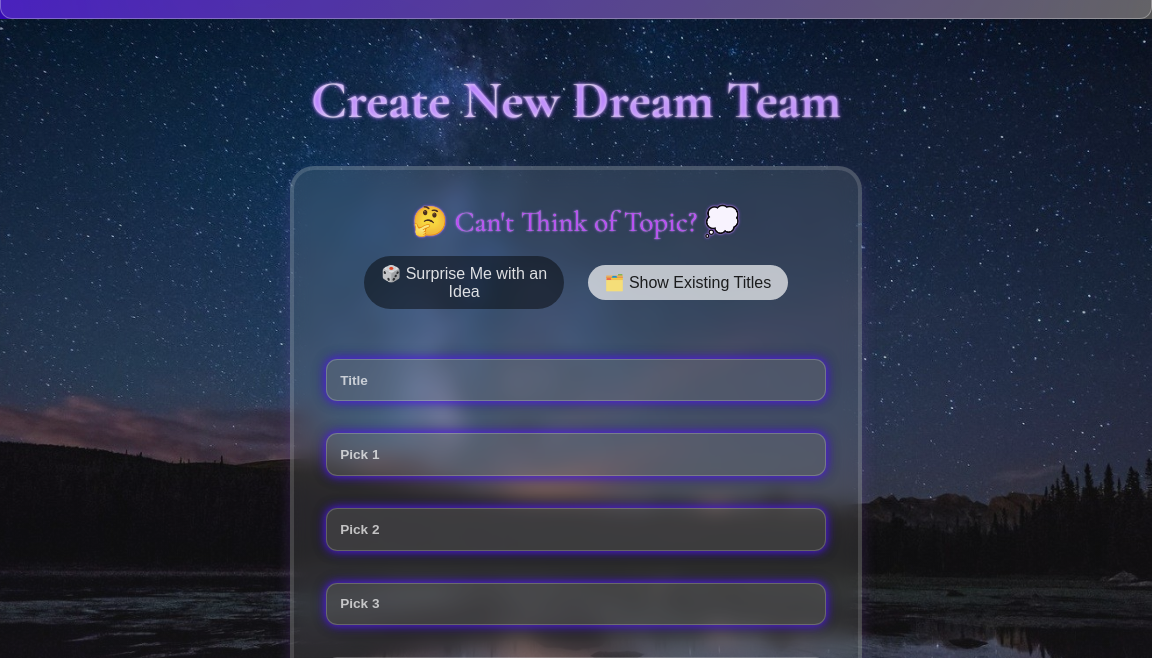
Test case: CreateDream › shows error on blank title
Type "pick 1" into the field with placeholder "Pick 1" at (576, 455), box [326,433,826,476]
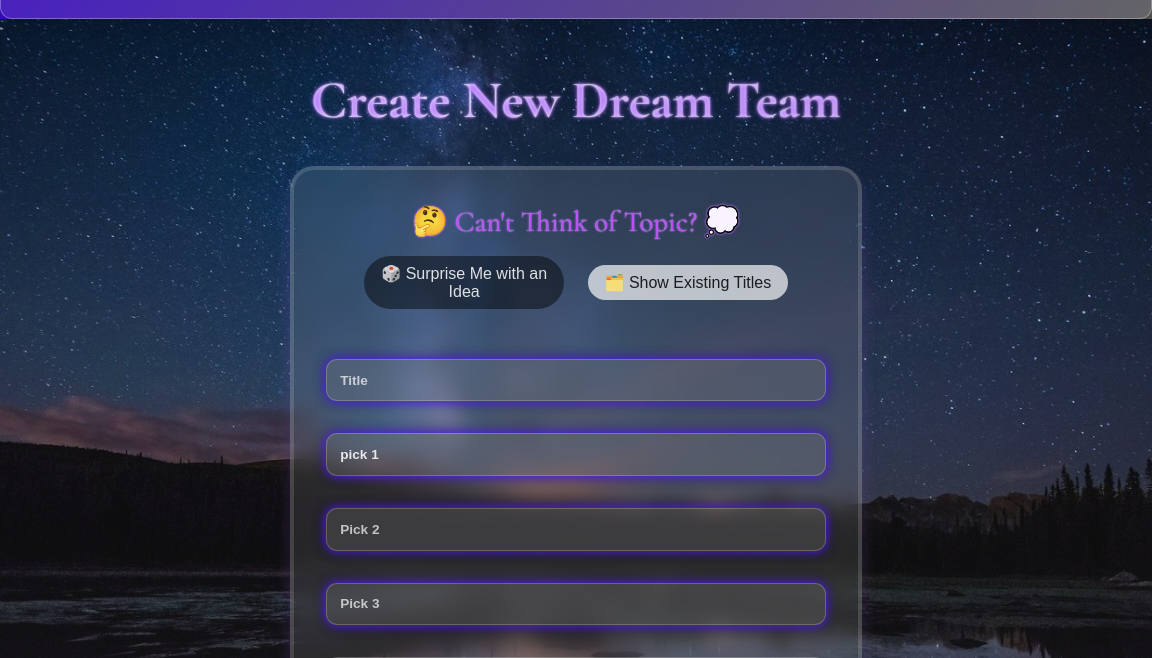
Type "pick 2" into the field with placeholder "Pick 2" at (576, 529), box [326,508,826,550]
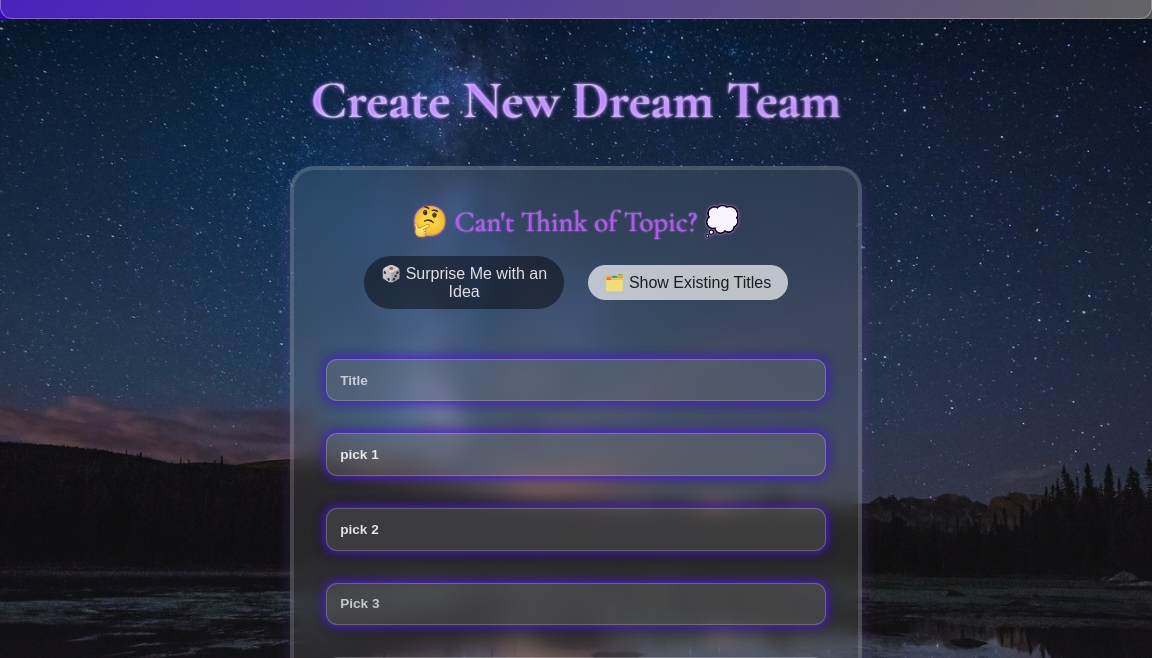
Type "pick 3" into the field with placeholder "Pick 3" at (576, 604), box [326,582,826,625]
(page scrolled)
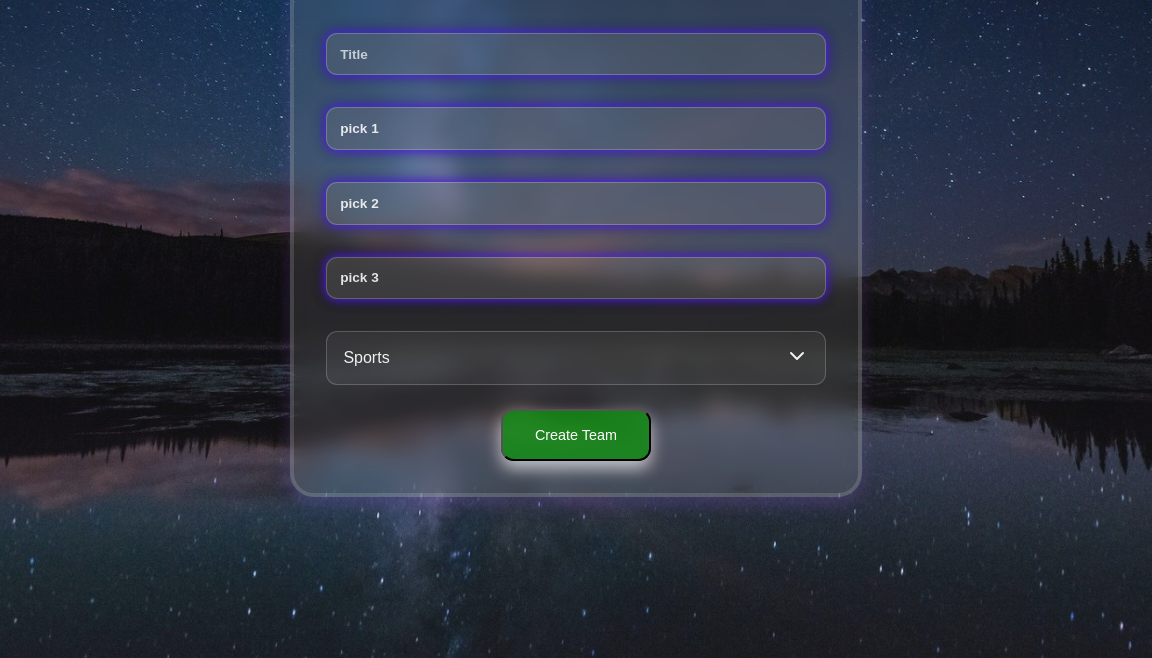
Click the button "Create Team" at (576, 435), box [501,409,651,461]
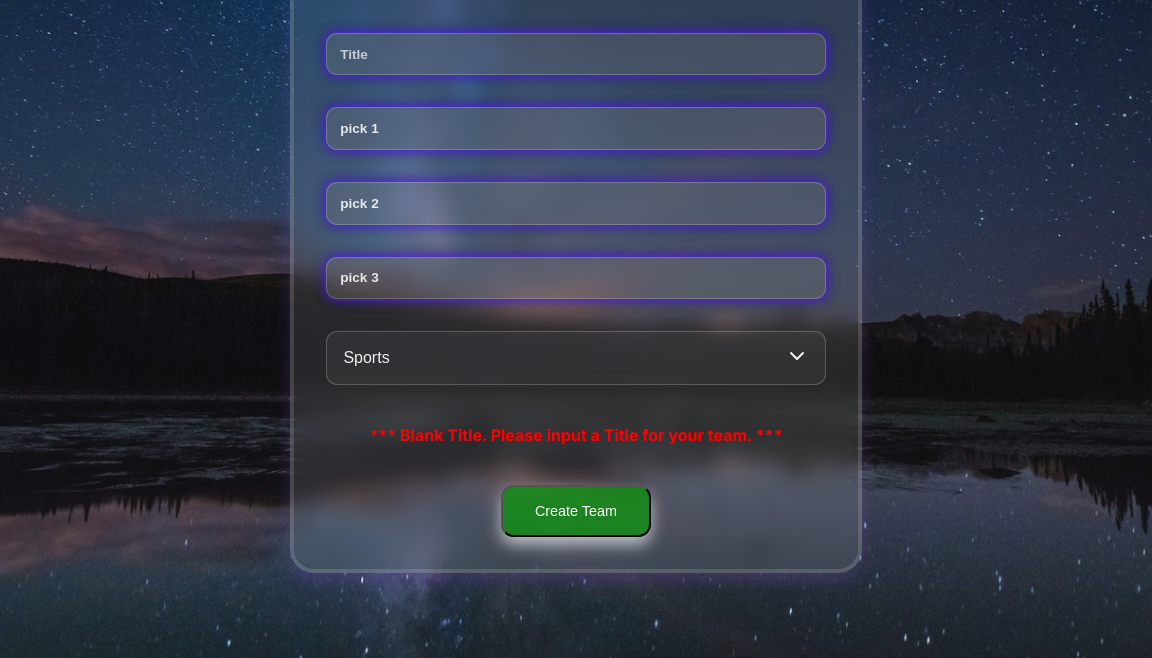
Expected: the text "*** Blank Title. Please input a Title for your team. ***" is shown, [369,425,783,445]
